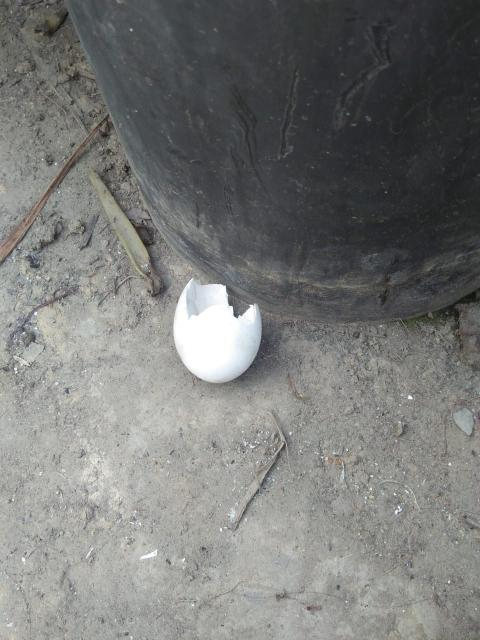Roto: (172, 277, 262, 384)
